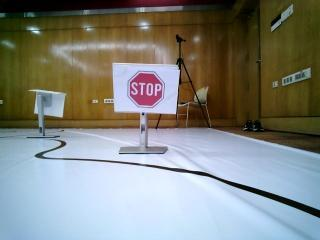stop: (107, 56, 177, 119)
